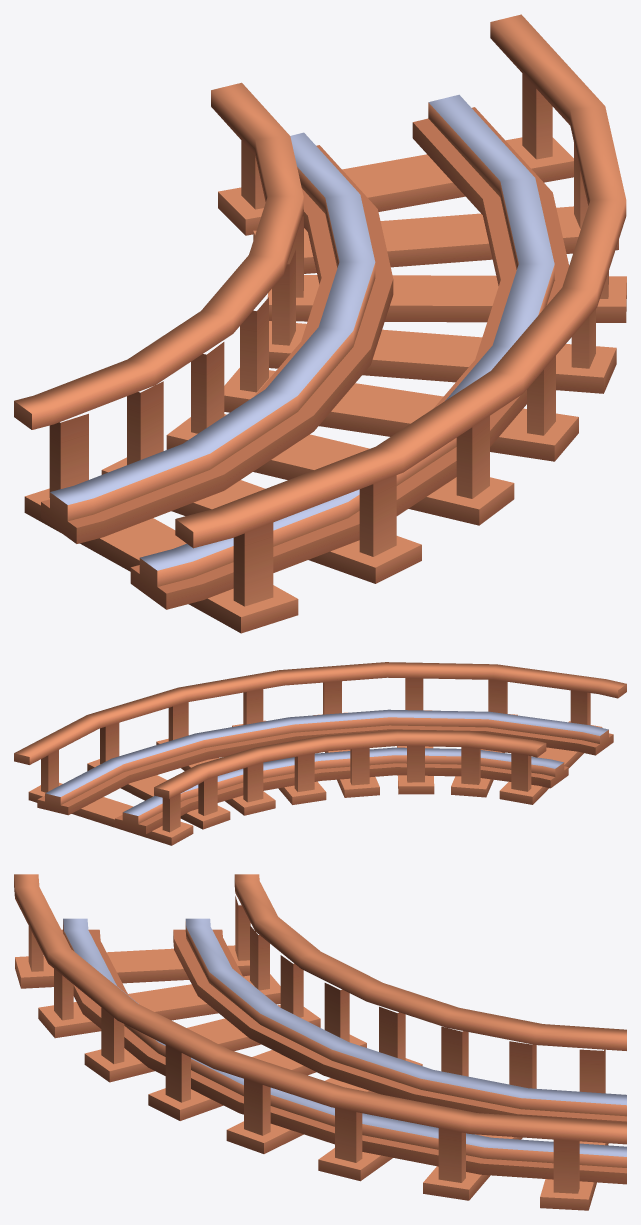
The model's file is kenney-coaster-coaster-wood-corner-small.glb.
3 renders of one model, top to bottom at view 1: azimuth 30°, elevation 25°; view 2: azimuth 150°, elevation 25°; view 3: azimuth 270°, elevation 25°, orthographic. The views are drawn at different scales.
Visible parts, largest first — view 1: coaster-wood-corner-small; view 2: coaster-wood-corner-small; view 3: coaster-wood-corner-small.
Boxes of the visible parts, x1=… form: coaster-wood-corner-small: x1=14, y1=14, x2=626, y2=633; coaster-wood-corner-small: x1=14, y1=662, x2=626, y2=845; coaster-wood-corner-small: x1=14, y1=874, x2=626, y2=1210.
Bounding box in the file's own units: 2.5 × 0.35 × 2.5.
1 material, 1 textured.
